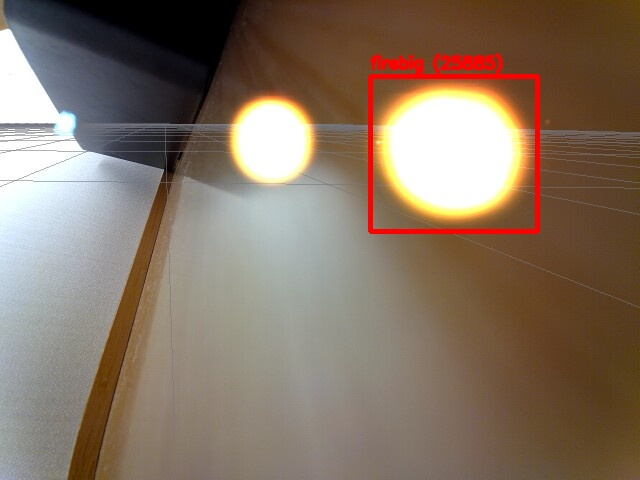firebig: (370, 76, 537, 231)
